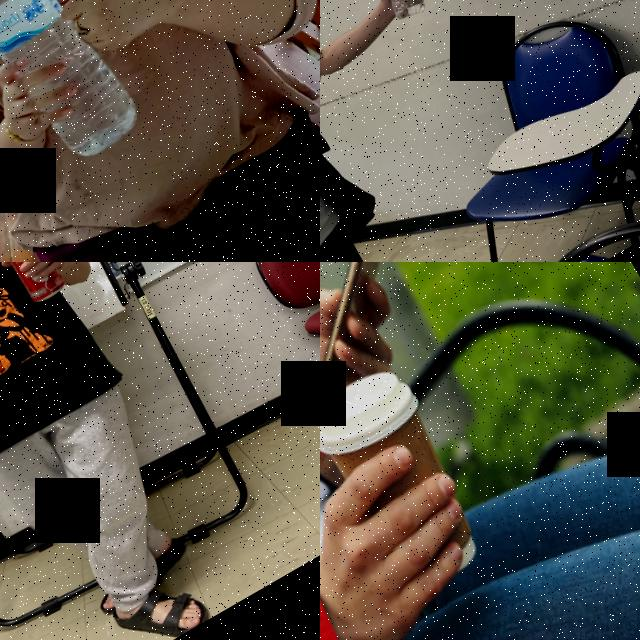bottle: (0, 0, 149, 172), (353, 0, 444, 25)
can: (0, 262, 71, 307)
cup: (320, 356, 508, 609)
